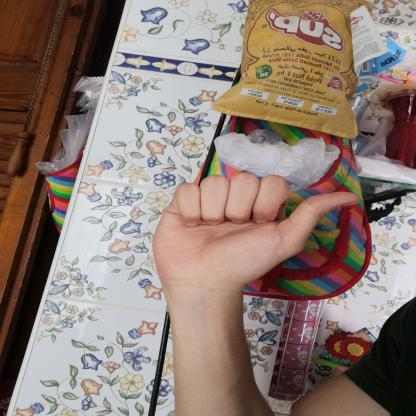DAD: (139, 167, 369, 303)
